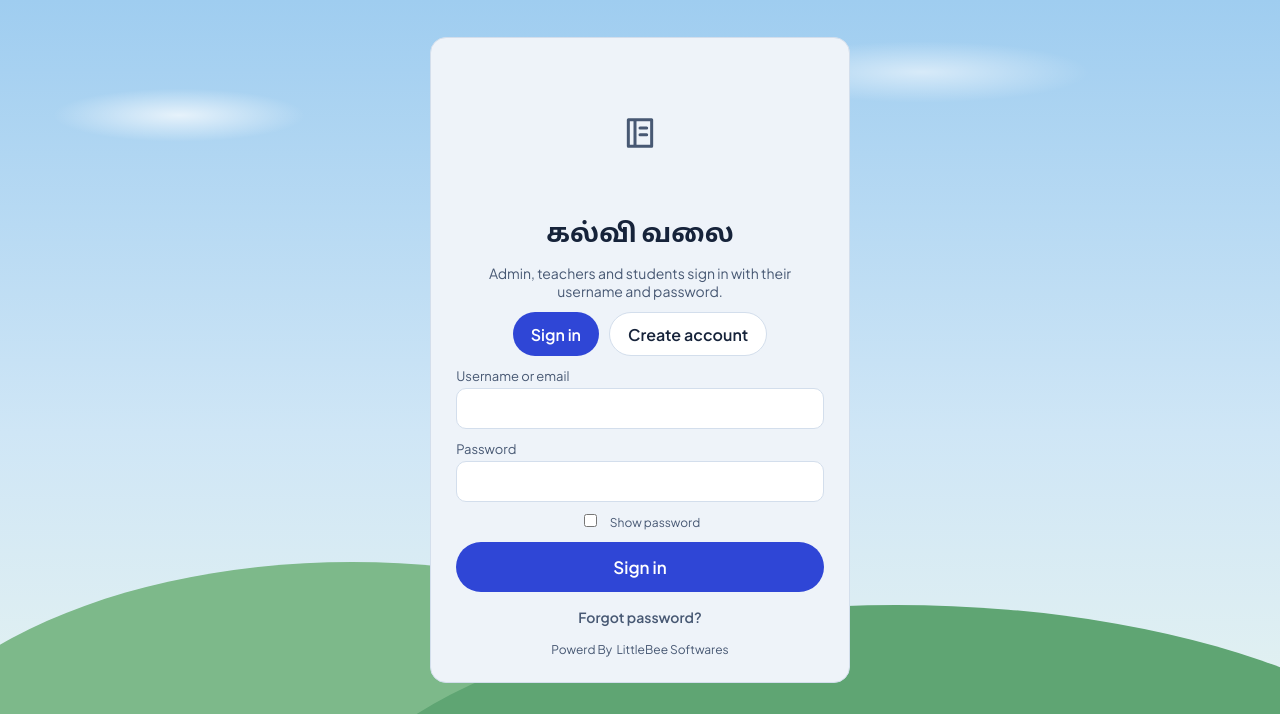
Test: auth and save behaviour › directs forgotten-password requests to the school administrator
Check: the element showing "Powerd By LittleBee Softwares" is shown, box [551,642,729,657]
What coordinates should you click on to do the following:
click the button "Forgot password?"
I would click on:
 (640, 617)
Its box is [456,604,824,630].
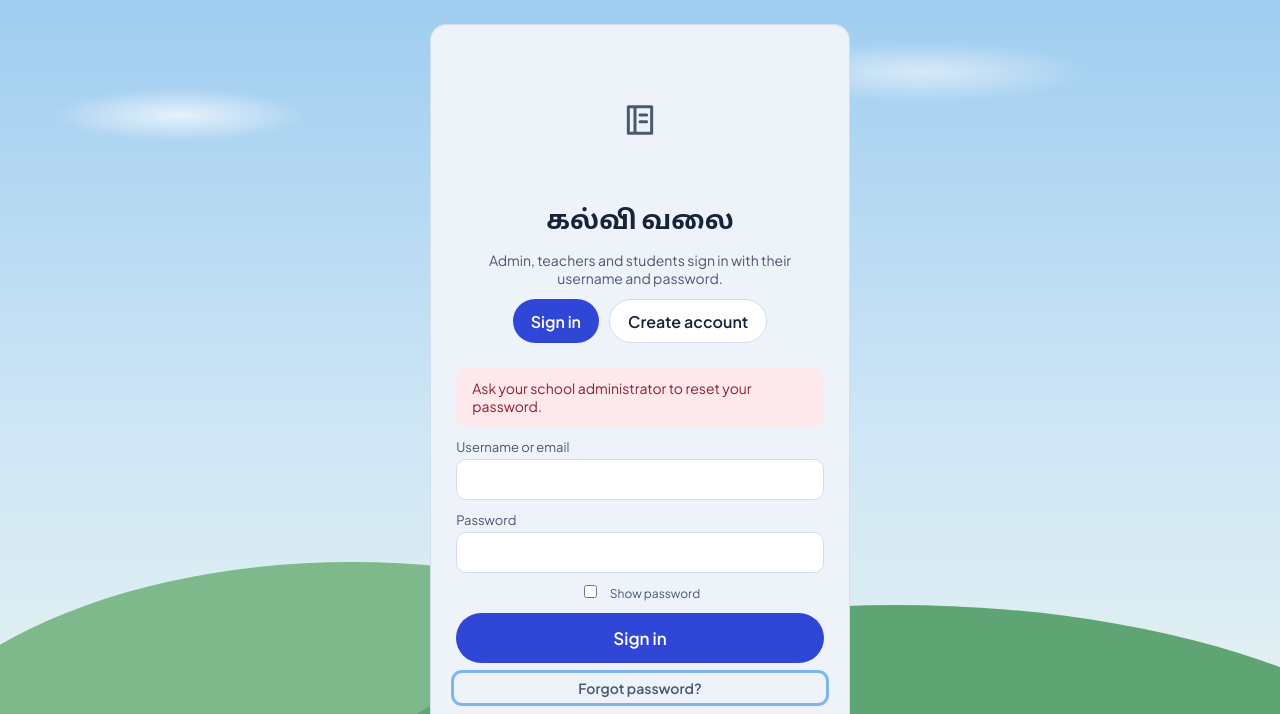
Check: the text "Ask your school administrator to reset your password." is shown, box [456,367,824,427]
